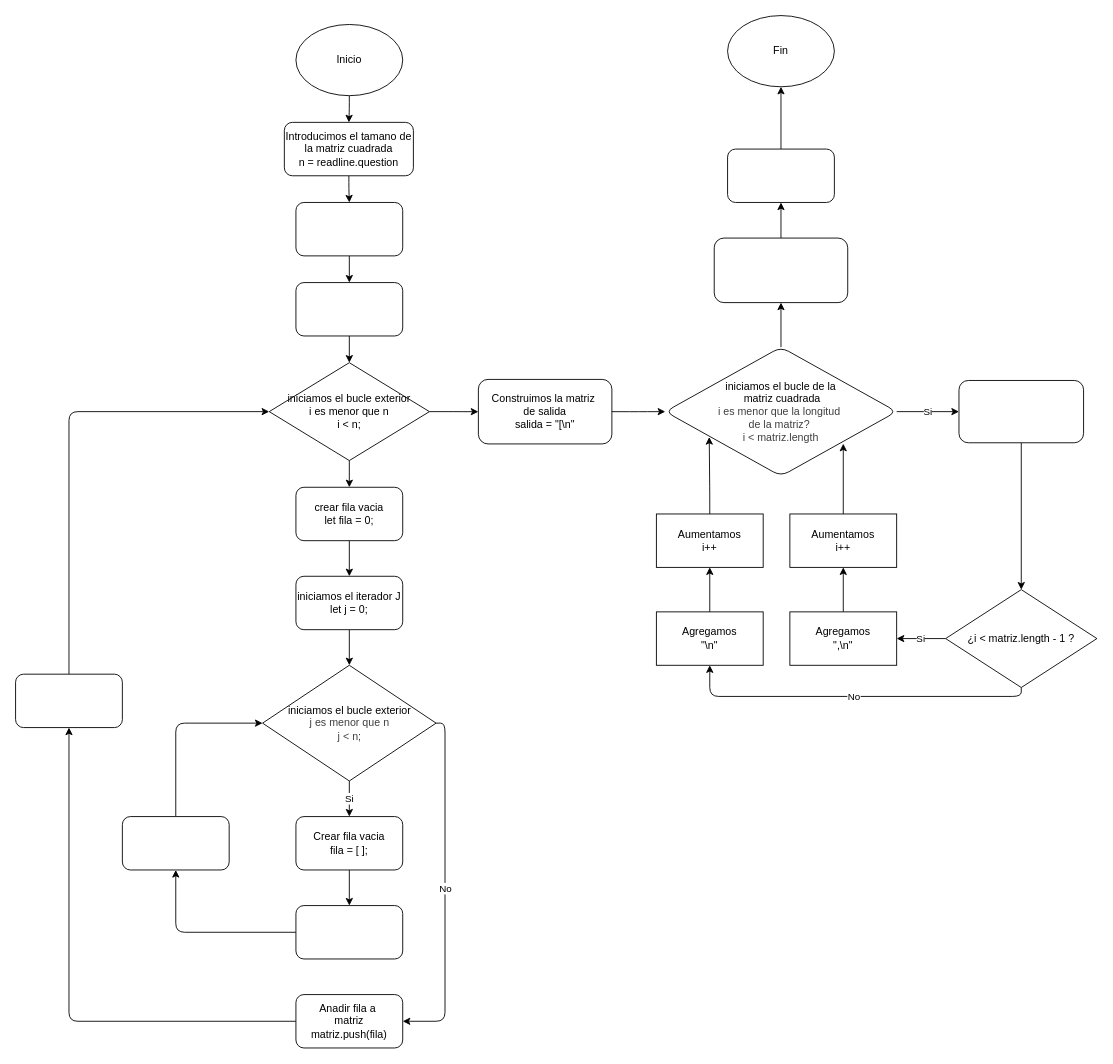
The diagram is 1113 pixels wide and 1064 high, and some of its shapes have lost their labels. The shapes that lost their labels are listed below. From the top down, each one's centre as x and y in pixels, then its label:
the point at 780,175: Imprime la matriz formateada console.log(salida)
the point at 349,229: Crear una matriz vacia let matriz = [ ];
the point at 780,270: Cerramos la matriz de salida salida += "]"
the point at 349,309: Iniciamos el iterador let i = 0;
the point at 1021,411: Para cada fila i en matriz: agregar: " [ " + matriz[i].join(", ") + " ]"
the point at 68,700: Aumnetamos i++
the point at 175,843: Aumentamos j++
the point at 349,932: Agregamos el resultdo de j * i a la matriz fila.push(i * j)
